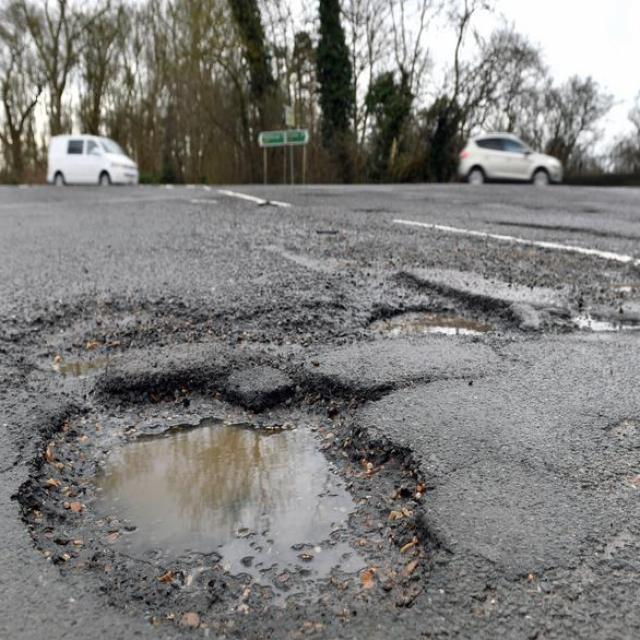Lubang: (33, 377, 430, 640)
